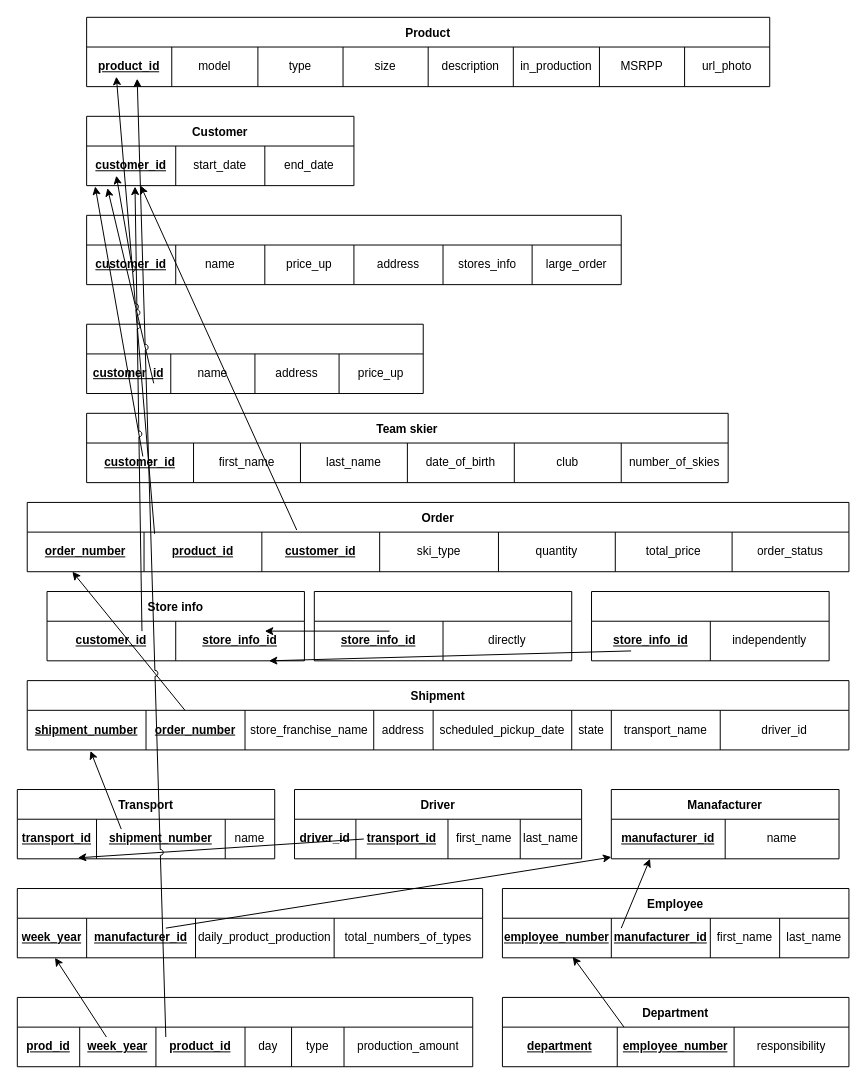
Image size: 866x1084. Some labels were removed from this diagram. Each missing label, with the box of its shape:
Franchise: (86, 214, 621, 285)
Order setting: (591, 591, 829, 661)
Production plans: (16, 888, 483, 958)
Production type: (16, 996, 473, 1067)
Receive shipment: (313, 591, 572, 661)
Store: (86, 323, 423, 394)
